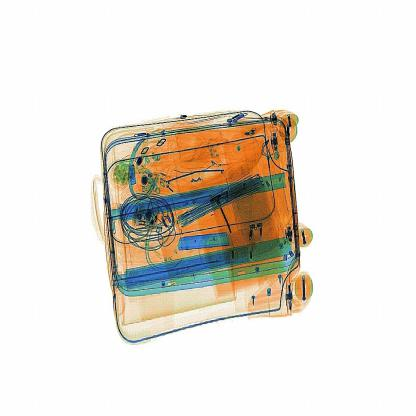pliers: (167, 222, 235, 259)
